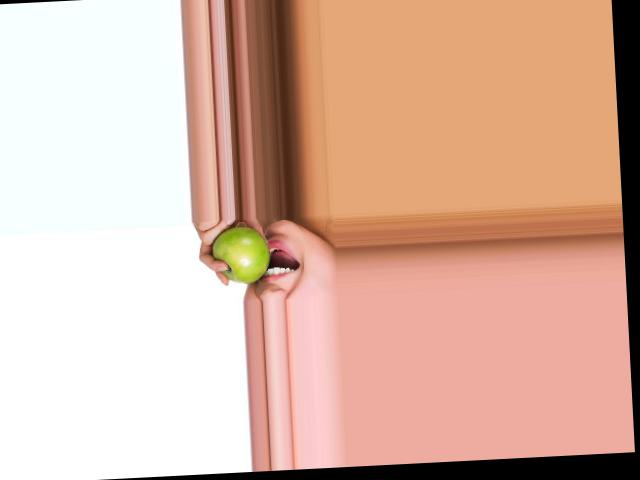apple: (208, 225, 273, 285)
